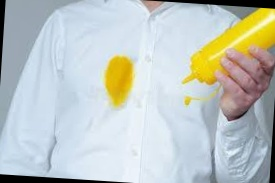mustard: (100, 54, 131, 111)
